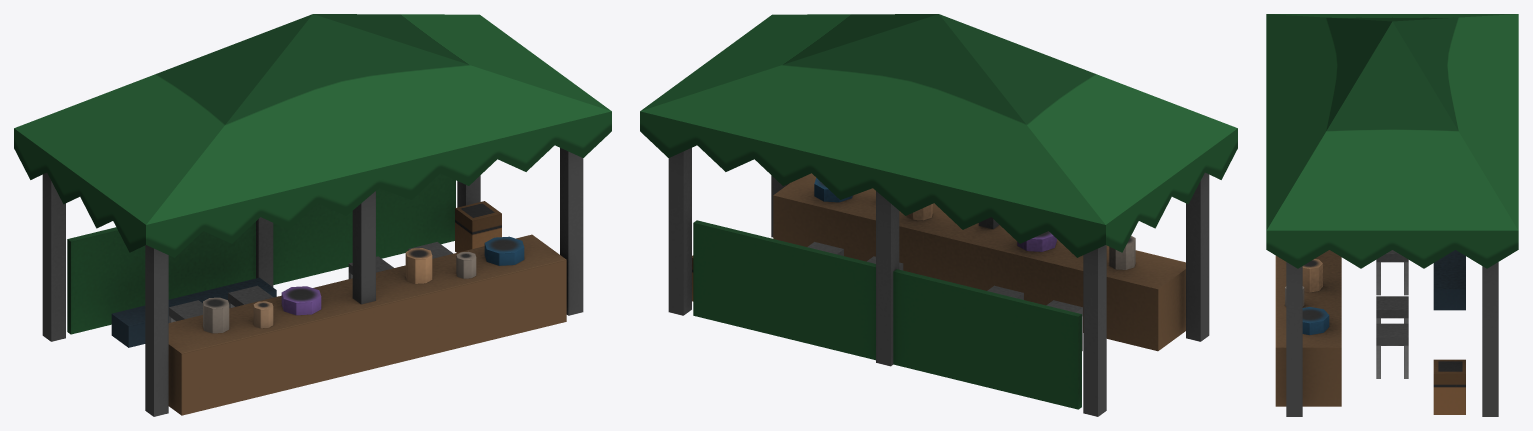
Rendered from WalkingStreet_Big.fbx.
3 views of the same model, side by side, from view 1: azimuth 30°, elevation 25°; view 2: azimuth 150°, elevation 25°; view 3: azimuth 270°, elevation 25° (orthographic). The views are drawn at different scales.
Parts seen in each view (by area): view 1: Big; view 2: Big; view 3: Big.
Boxes of the visible parts, left/top/right/bottom form: Big: left=14, top=14, right=611, bottom=416; Big: left=640, top=14, right=1237, bottom=416; Big: left=1266, top=14, right=1518, bottom=416.
Size of the model in its own units: 7.86 by 5 by 3.86.
